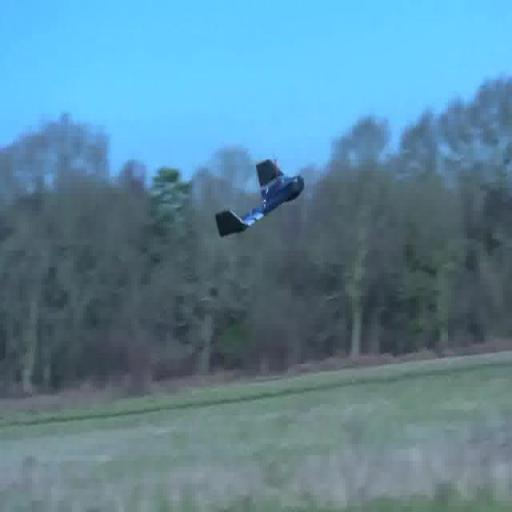uav: (212, 150, 312, 248)
